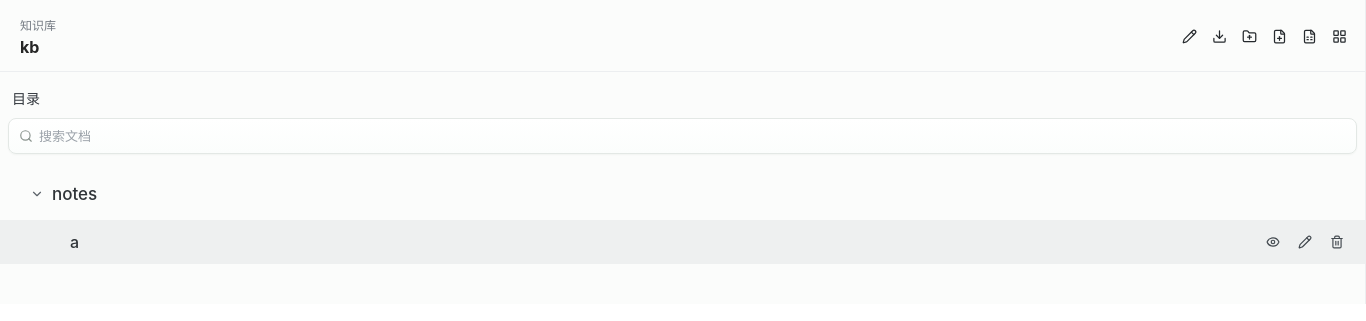
文档右键菜单支持重命名、删除并可点击外部关闭
The image size is (1366, 321).
Step 1. Right-click the list item "a" → (682, 242), box 0,220 -> 1365,264
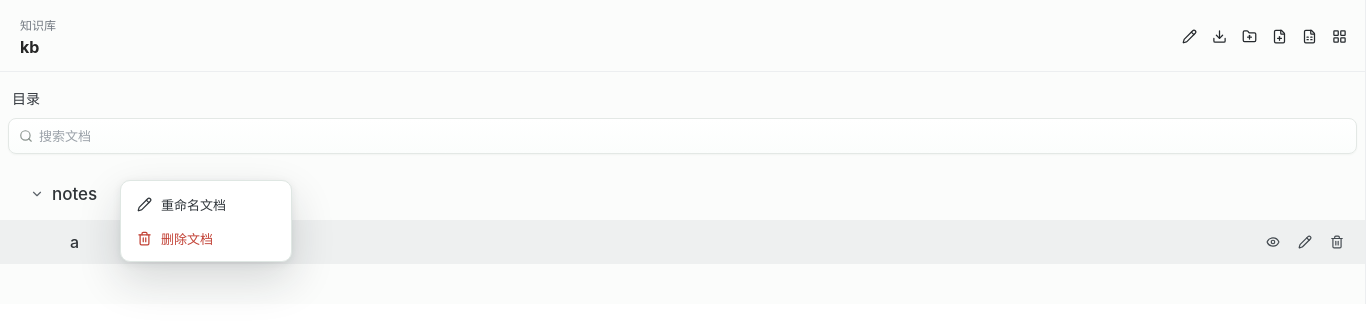
Step 2. Click the menu item "重命名文档" → (206, 204), box 127,187 -> 285,221
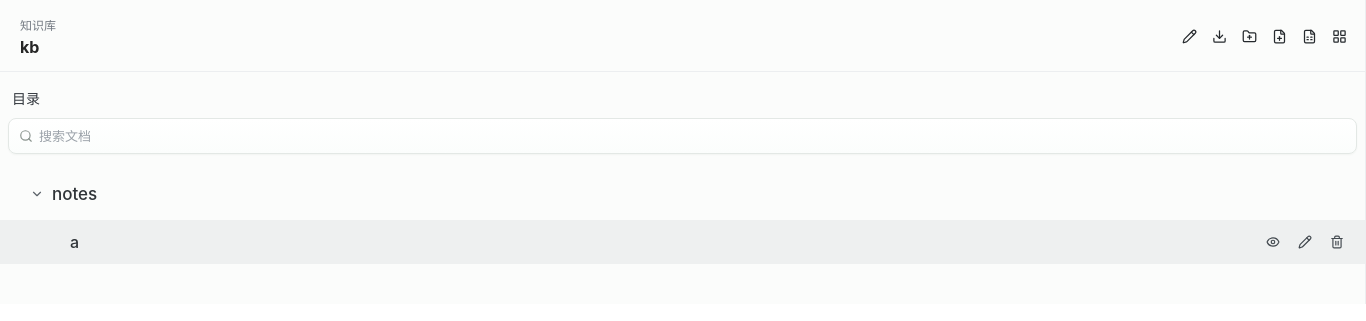
Check: the menu "目录右键菜单" is gone
Step 3. Right-click the list item "a" → (682, 242), box 0,220 -> 1365,264
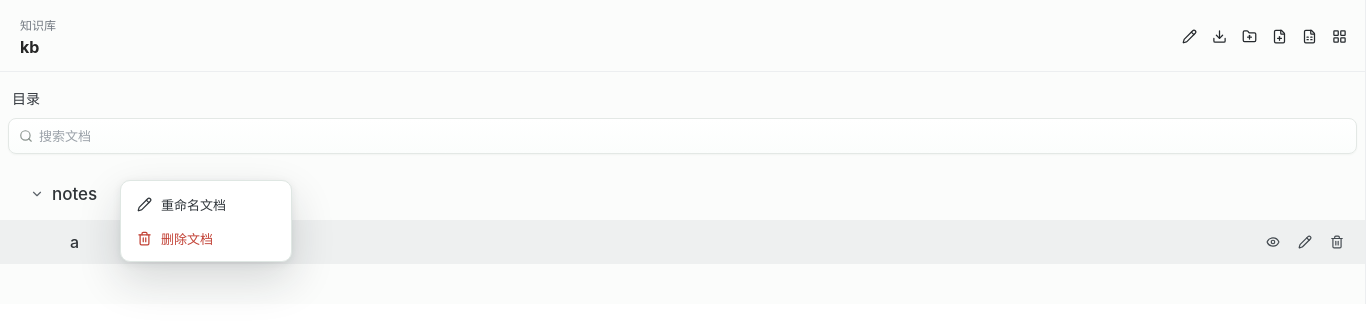
Step 4. Click the menu item "删除文档" → (206, 238), box 127,221 -> 285,255
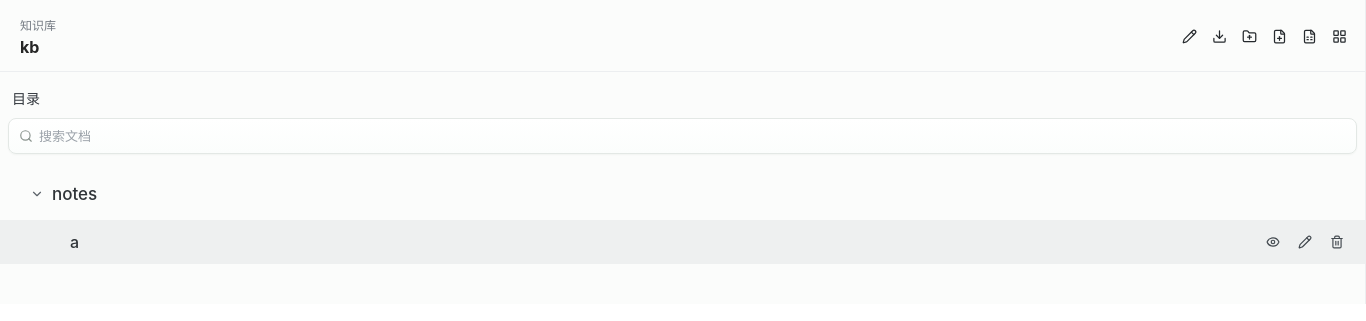
Step 5. Right-click the list item "a" → (682, 242), box 0,220 -> 1365,264
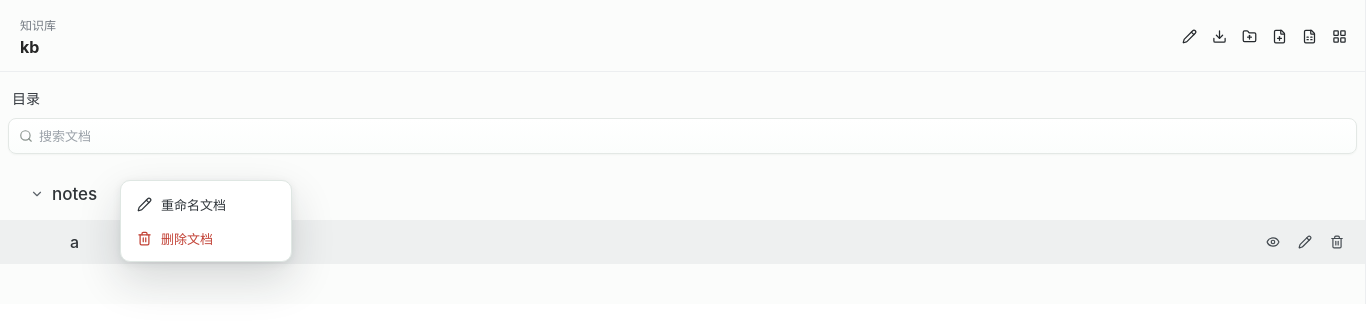
Check: the menu named "目录右键菜单" is shown, box 120,180 -> 292,262
Step 6. Click the list item "notes" → (63, 194), box 28,180 -> 97,208
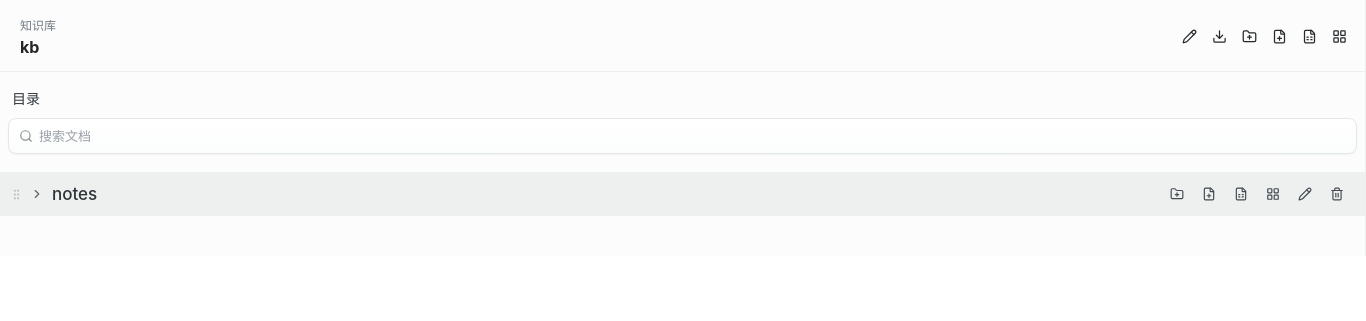
Check: the menu "目录右键菜单" is gone
